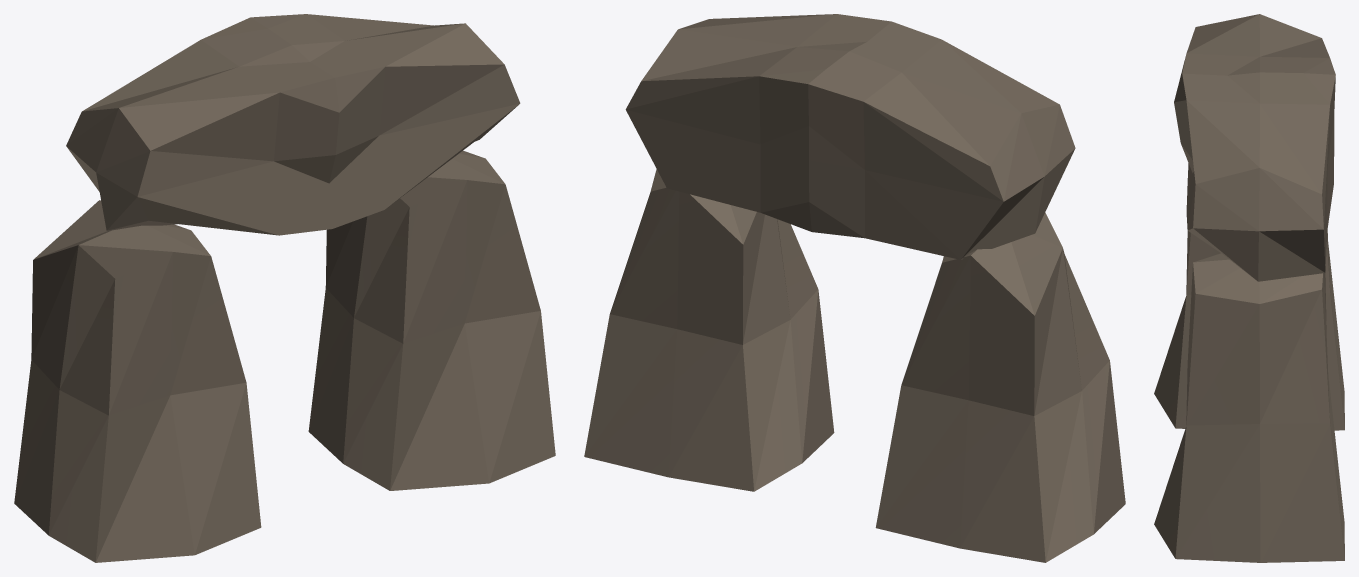
File: Rock.FBX
3 views of the same model, side by side, from view 1: azimuth 30°, elevation 25°; view 2: azimuth 150°, elevation 25°; view 3: azimuth 270°, elevation 25° (orthographic). The views are drawn at different scales.
Parts seen in each view (by area): view 1: Stone_021, Stone_019, Stone_020; view 2: Stone_021, Stone_019, Stone_020; view 3: Stone_020, Stone_021, Stone_019.
Boxes of the visible parts, box(x1,y1,x2,y2) form: Stone_021: box(66, 14, 520, 235); Stone_019: box(14, 200, 261, 562); Stone_020: box(308, 150, 555, 490); Stone_021: box(625, 14, 1075, 259); Stone_019: box(875, 212, 1125, 562); Stone_020: box(584, 169, 834, 491); Stone_020: box(1154, 253, 1344, 562); Stone_021: box(1174, 14, 1335, 281); Stone_019: box(1154, 230, 1344, 430).
Size of the model in its own units: 463 by 404 by 179.
